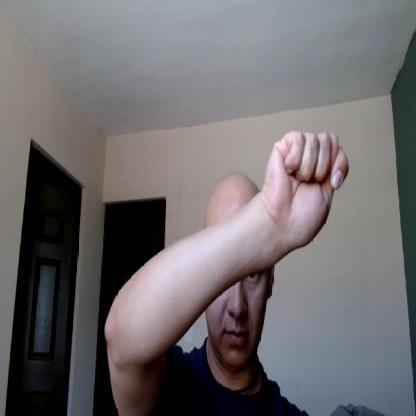T: (264, 128, 350, 248)
